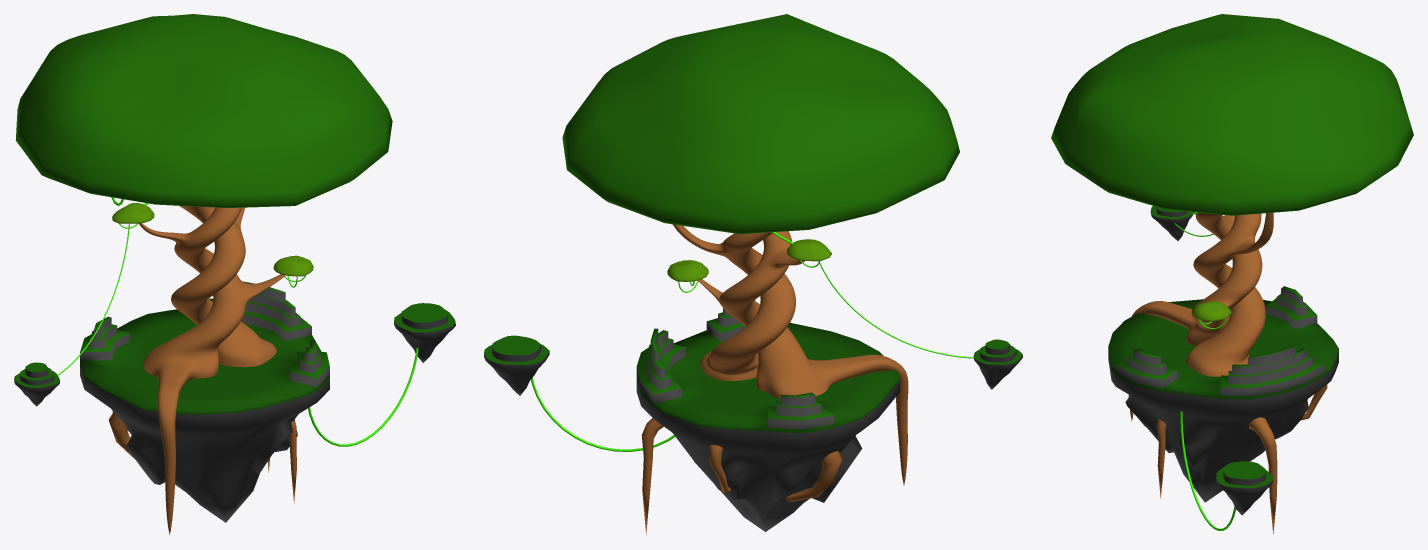
Rendered from SM_GiantTwistedTree_v3.FBX.
3 views of the same model, side by side, from view 1: azimuth 30°, elevation 25°; view 2: azimuth 150°, elevation 25°; view 3: azimuth 270°, elevation 25° (orthographic). The views are drawn at different scales.
Parts seen in each view (by area): view 1: SM_TreeTop_1, SM_Platform_Main, SM_Tree_1, SM_Tree_2, SM_Platform2, SM_Platform1, SM_Vines, SM_TreeTop_2, SM_TreeTop_3; view 2: SM_TreeTop_1, SM_Platform_Main, SM_Tree_1, SM_Tree_2, SM_Platform2, SM_Platform1, SM_Vines, SM_Root_2, SM_Root_4, SM_TreeTop_2, SM_TreeTop_3; view 3: SM_TreeTop_1, SM_Platform_Main, SM_Tree_2, SM_Tree_1, SM_Platform2, SM_Root_2, SM_Platform1, SM_Vines, SM_TreeTop_3, SM_Root_1.
Part boxes in pixels (x1,y1,x2,y2): SM_TreeTop_1: (15,14,392,207); SM_Platform_Main: (80,281,329,522); SM_Tree_1: (139,207,285,534); SM_Tree_2: (171,205,276,367); SM_Platform2: (394,303,455,362); SM_Platform1: (14,362,59,406); SM_Vines: (57,197,418,446); SM_TreeTop_2: (112,203,154,223); SM_TreeTop_3: (273,255,313,276); SM_TreeTop_1: (562,14,959,234); SM_Platform_Main: (636,300,900,531); SM_Tree_1: (698,231,908,485); SM_Tree_2: (672,224,795,380); SM_Platform2: (484,335,549,395); SM_Platform1: (973,339,1022,389); SM_Vines: (531,232,973,451); SM_Root_2: (641,418,663,535); SM_Root_4: (785,451,842,501); SM_TreeTop_2: (786,239,831,261); SM_TreeTop_3: (667,260,708,281); SM_TreeTop_1: (1051,14,1413,215); SM_Platform_Main: (1108,286,1338,502); SM_Tree_2: (1186,212,1273,376); SM_Tree_1: (1128,212,1262,421); SM_Platform2: (1216,461,1273,515); SM_Root_2: (1248,417,1277,533); SM_Platform1: (1150,206,1192,241); SM_Vines: (1174,212,1235,530); SM_TreeTop_3: (1192,301,1232,321); SM_Root_1: (1156,418,1166,498).
Bounding box in the file's own units: 43860 × 42142 × 30854.
